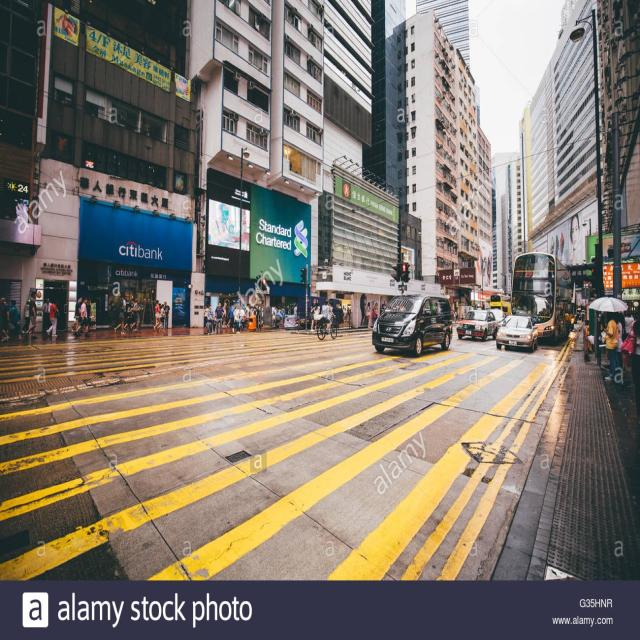body: (620, 301, 640, 418), (558, 303, 606, 350), (232, 304, 300, 334), (210, 199, 247, 247), (567, 211, 591, 268), (602, 311, 620, 381), (514, 293, 554, 324), (620, 300, 639, 339), (24, 291, 39, 340), (320, 298, 336, 335), (614, 311, 624, 370), (45, 298, 60, 337), (113, 299, 127, 336), (451, 304, 479, 322), (0, 298, 11, 342), (285, 150, 302, 177), (129, 298, 141, 333), (618, 232, 634, 258), (213, 301, 225, 335), (123, 300, 135, 333), (0, 296, 9, 340), (423, 299, 446, 316), (155, 303, 167, 332), (152, 299, 162, 333), (74, 296, 83, 333), (22, 299, 32, 332), (390, 297, 412, 312), (312, 298, 322, 330), (359, 293, 368, 328), (127, 298, 135, 334), (10, 300, 21, 326), (342, 303, 353, 329), (80, 297, 88, 332), (235, 306, 245, 334), (232, 305, 241, 334), (206, 304, 214, 336), (163, 302, 171, 332), (364, 301, 372, 330), (313, 301, 321, 329), (220, 302, 229, 326), (226, 302, 234, 328), (310, 300, 316, 333), (120, 294, 126, 326), (42, 297, 53, 313), (203, 304, 209, 329), (327, 300, 334, 321), (158, 302, 163, 330), (214, 306, 219, 333), (381, 299, 388, 316), (86, 298, 91, 320), (56, 305, 59, 336), (374, 302, 379, 312), (370, 297, 374, 309)
